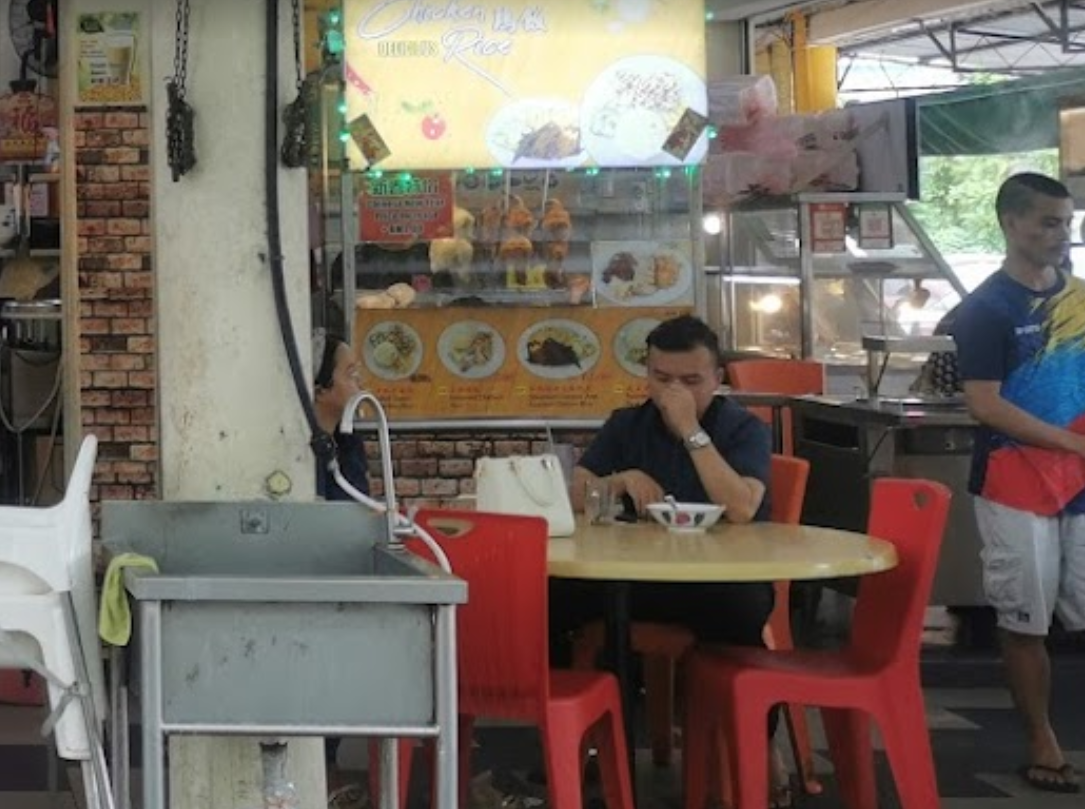sit: (579, 289, 763, 587)
